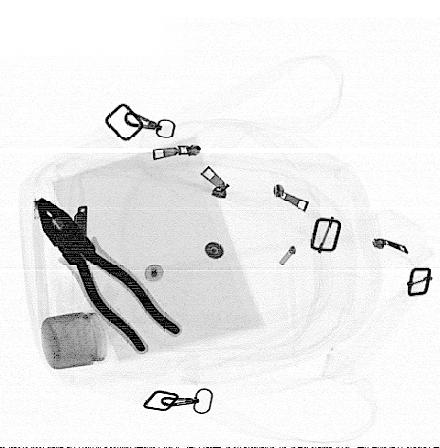Pliers: (34, 195, 183, 357)
